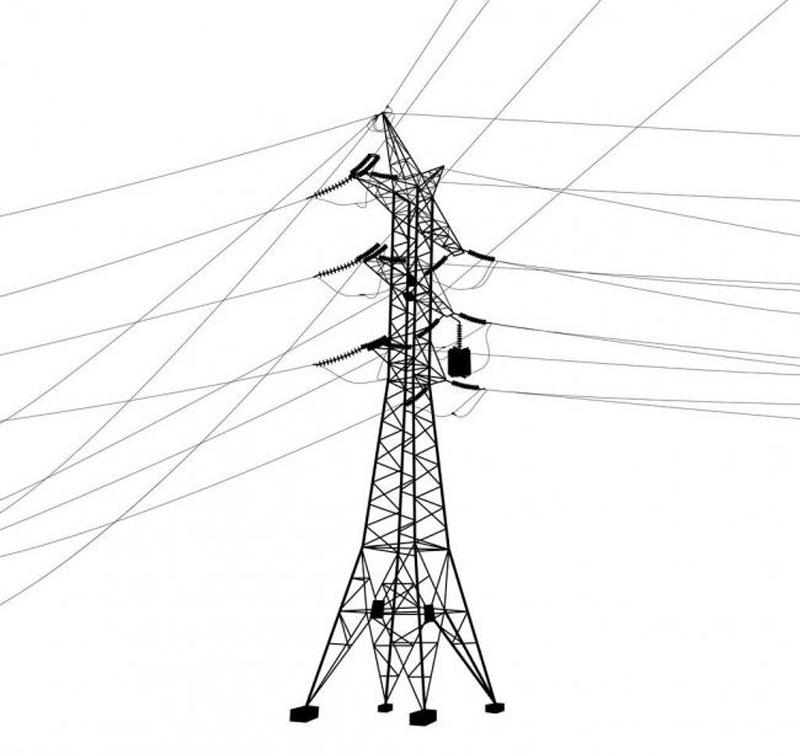power_tower: (281, 102, 510, 719)
